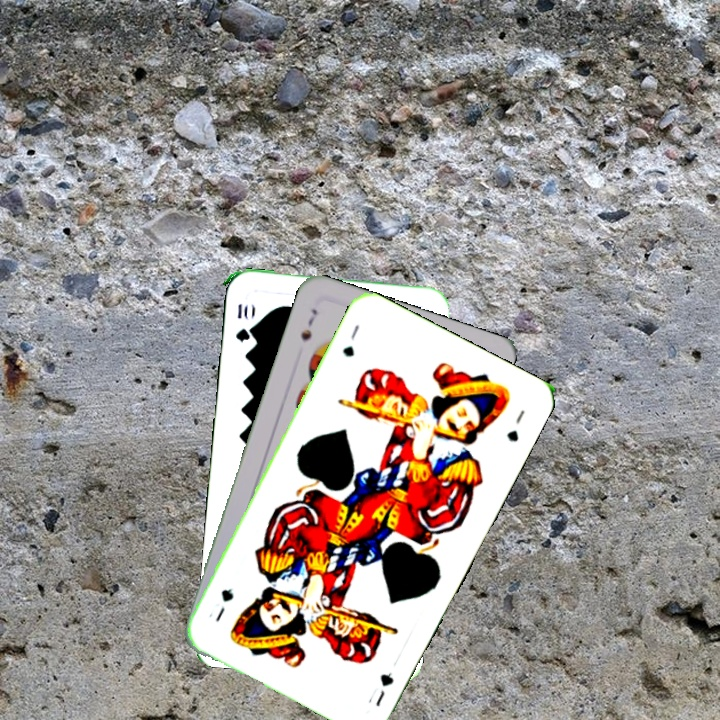G10: (232, 300, 253, 344)
GU: (363, 668, 397, 709), (338, 320, 362, 360)
S7: (296, 304, 320, 343)
